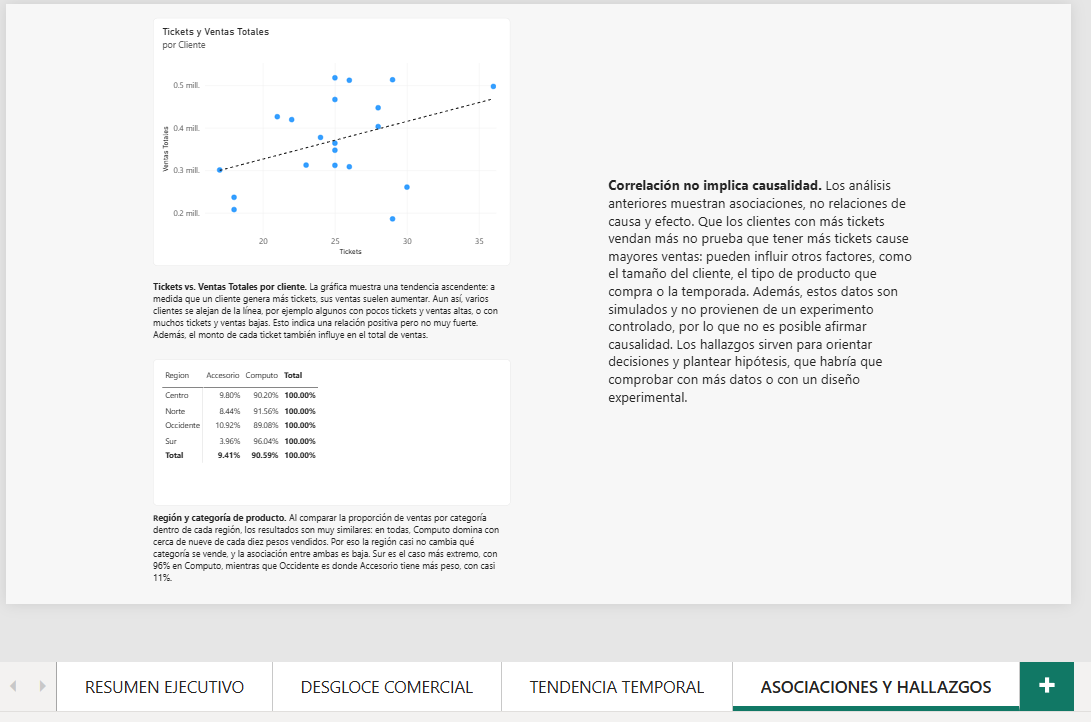

The page's visual inventory and layout, read from the dashboard file:
{"tool":"powerbi","page":{"name":"ASOCIACIONES Y HALLAZGOS","canvas":[1920,1080],"ordinal":3},"visuals":[{"type":"scatterChart","fields":{"Category":["Dim Cliente.Cliente"],"X":["Medidas.Tickets"],"Y":["Medidas.Ventas Totales"]},"box":[265.9,25.2,643.3,446.7],"z":0},{"type":"textbox","box":[265.9,497.2,644,144],"z":1000},{"type":"pivotTable","fields":{"Columns":["Dim Producto.Categoria"],"Rows":["Dim Cliente.Region"],"Values":["Medidas.% por Fila Categoría"]},"box":[265.9,641.2,644,264],"z":2000},{"type":"textbox","box":[265.9,915.2,643.3,156.7],"z":3000},{"type":"textbox","box":[1085,310,555,465],"z":4000}]}

Visuals, with their boxes on the page's 1920x1080 design canvas (x1, y1, x2, y2). These are canvas units, not pixel positions in the 1091x722 screenshot, which may show the page scaled, cropped or inside an application window:
scatterChart - Dim Cliente.Cliente x Medidas.Tickets: 266,25,909,472
textbox: 266,497,910,641
pivotTable - Dim Producto.Categoria x Dim Cliente.Region: 266,641,910,905
textbox: 266,915,909,1072
textbox: 1085,310,1640,775
